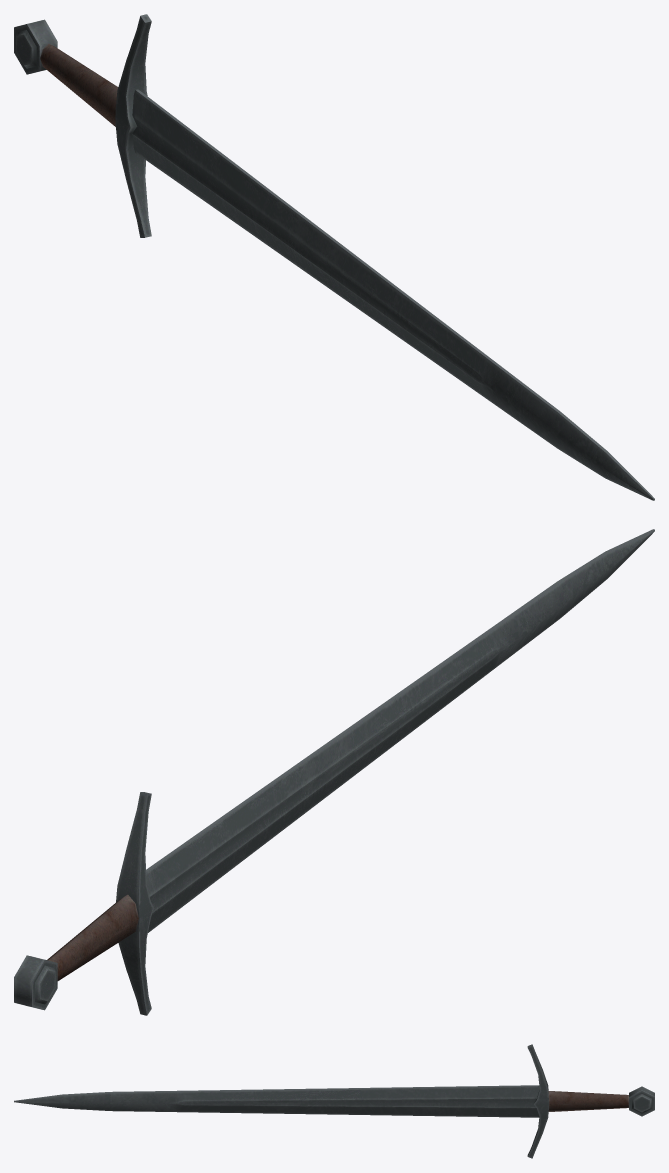
Rendered from Broadsword.glb.
The picture shows the model from 3 angles, top to bottom: view 1: azimuth 30°, elevation 25°; view 2: azimuth 150°, elevation 25°; view 3: azimuth 270°, elevation 25°; orthographic projection. The views are drawn at different scales.
Parts seen in each view (by area): view 1: longsword; view 2: longsword; view 3: longsword.
Boxes of the visible parts, x1,y1,x2,y2 form: longsword: (14,14,654,500); longsword: (14,529,654,1015); longsword: (14,1044,654,1158).
Bounding box in the file's own units: 0.0434 × 0.3824 × 1.97.
Materials: 1 (1 with a texture image).
